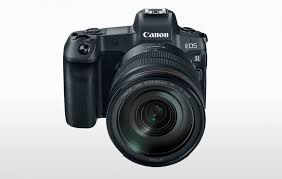camera: (60, 24, 210, 170)
